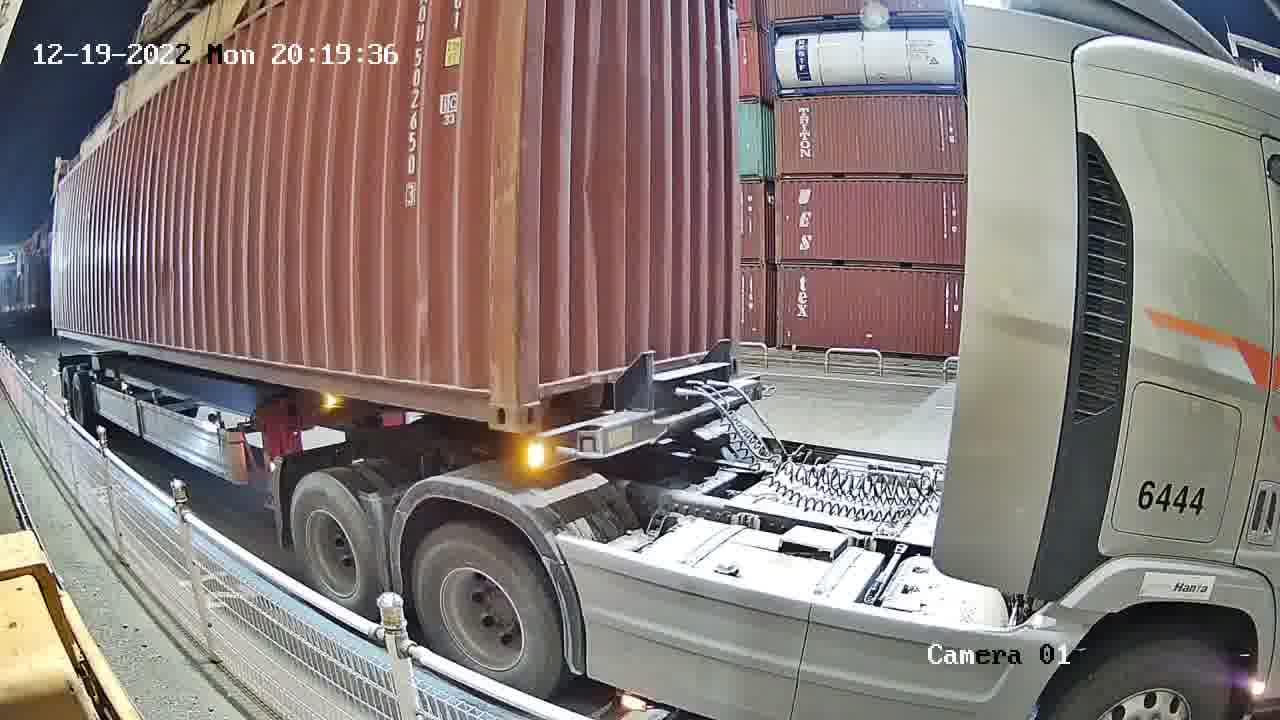Chassis: (536, 375, 773, 462)
Hole_L: (516, 359, 568, 432)
Hole_R: (458, 364, 515, 435)
Tire: (411, 527, 559, 701), (292, 473, 375, 611)
